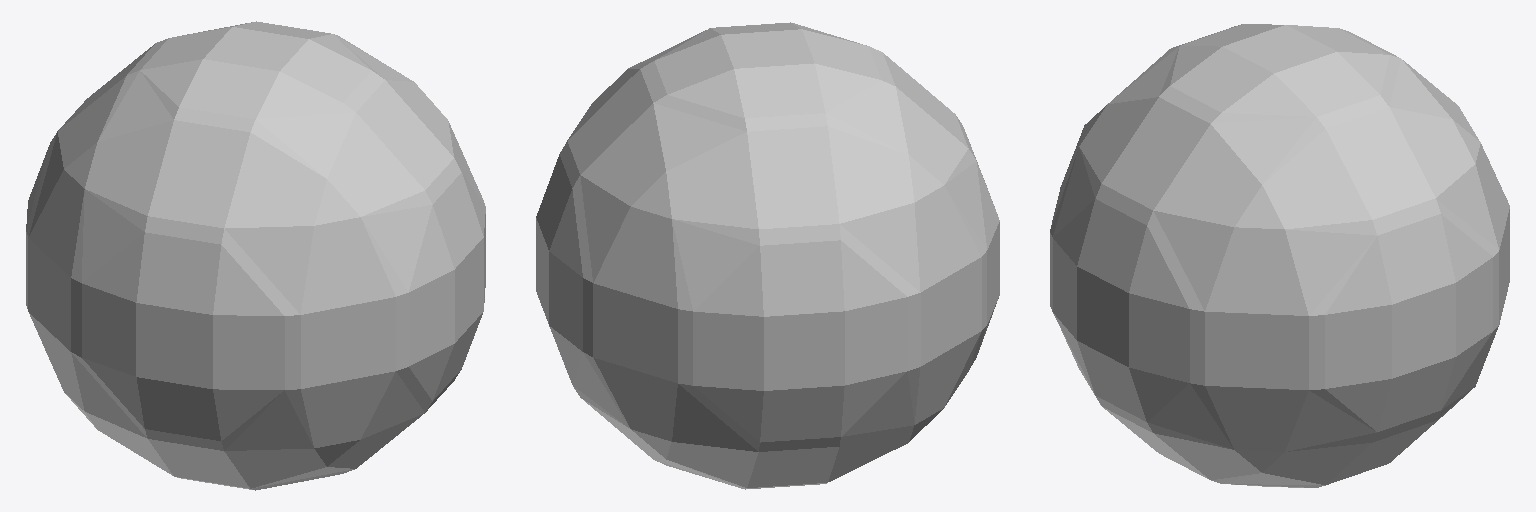
3 views of the same model, side by side, from view 1: azimuth 30°, elevation 25°; view 2: azimuth 150°, elevation 25°; view 3: azimuth 270°, elevation 25° (orthographic).
Parts seen in each view (by area): view 1: Mball; view 2: Mball; view 3: Mball.
Part boxes in pixels (x1,y1,x2,y2): Mball: (26, 21, 485, 490); Mball: (536, 22, 999, 489); Mball: (1050, 24, 1509, 487).
Size of the model in its own units: 0.6918 by 0.6864 by 0.6918.